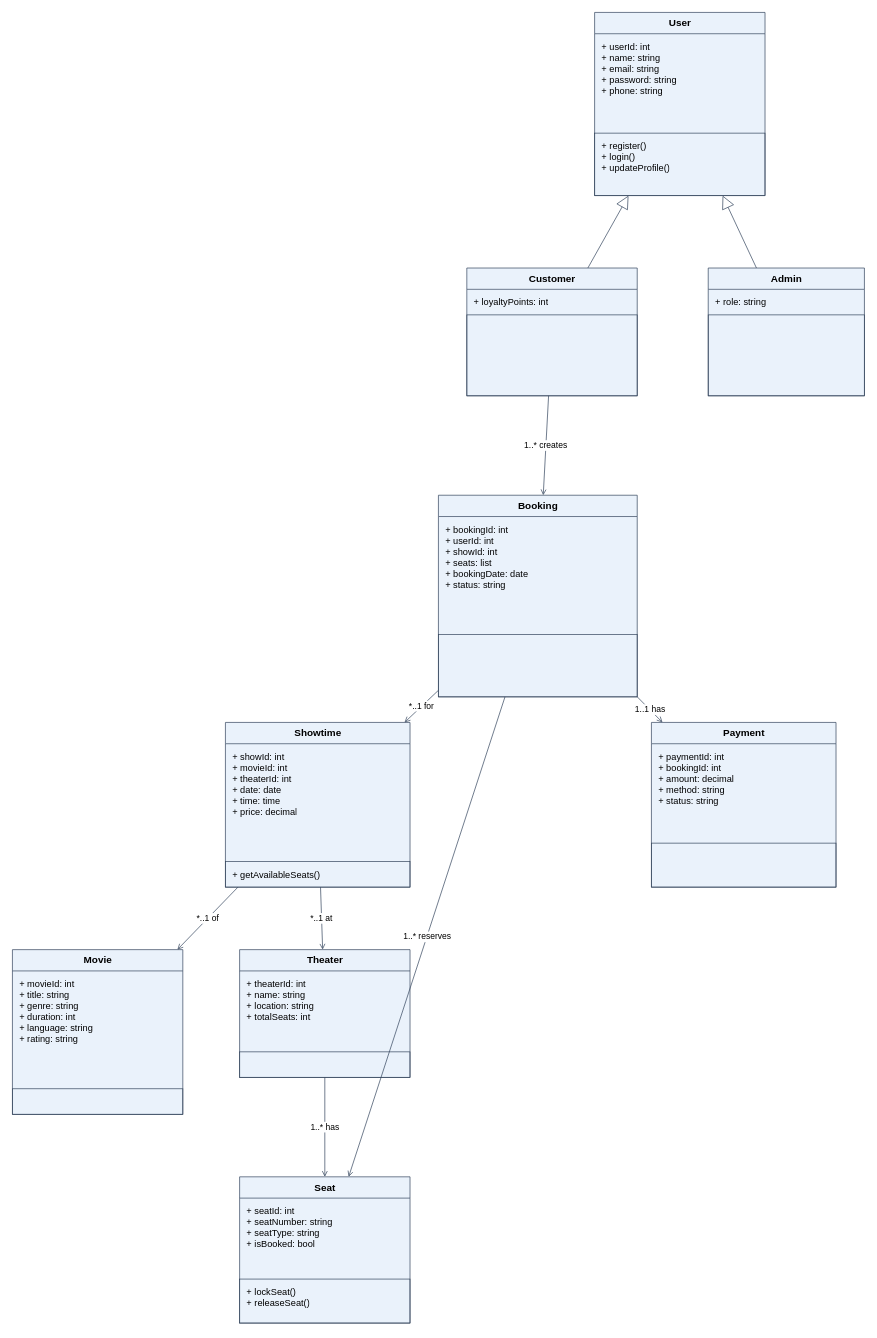
The diagram is 877 pixels wide and 1338 high, and some of its shapes have lost their labels. The centre of each missing label's shape, as x and y in pixels:
+ addMovie() + updateShowtime() + generateReport() + processRefund(): (x=786, y=355)
+ browseMovies() + bookTicket() + cancelBooking() + viewHistory(): (x=551, y=355)
+ confirmBooking() + cancelBooking() + generateTicket(): (x=537, y=665)
+ getDetails(): (x=97, y=1101)
+ getSeatLayout(): (x=324, y=1064)
+ processPayment() + refund(): (x=743, y=864)
